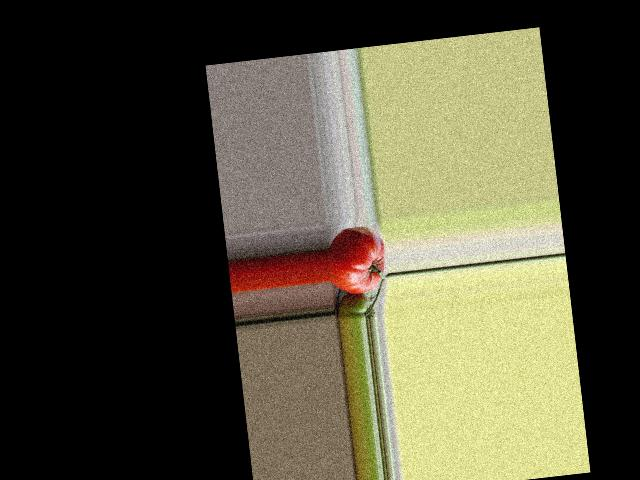tomato: (324, 223, 389, 296)
